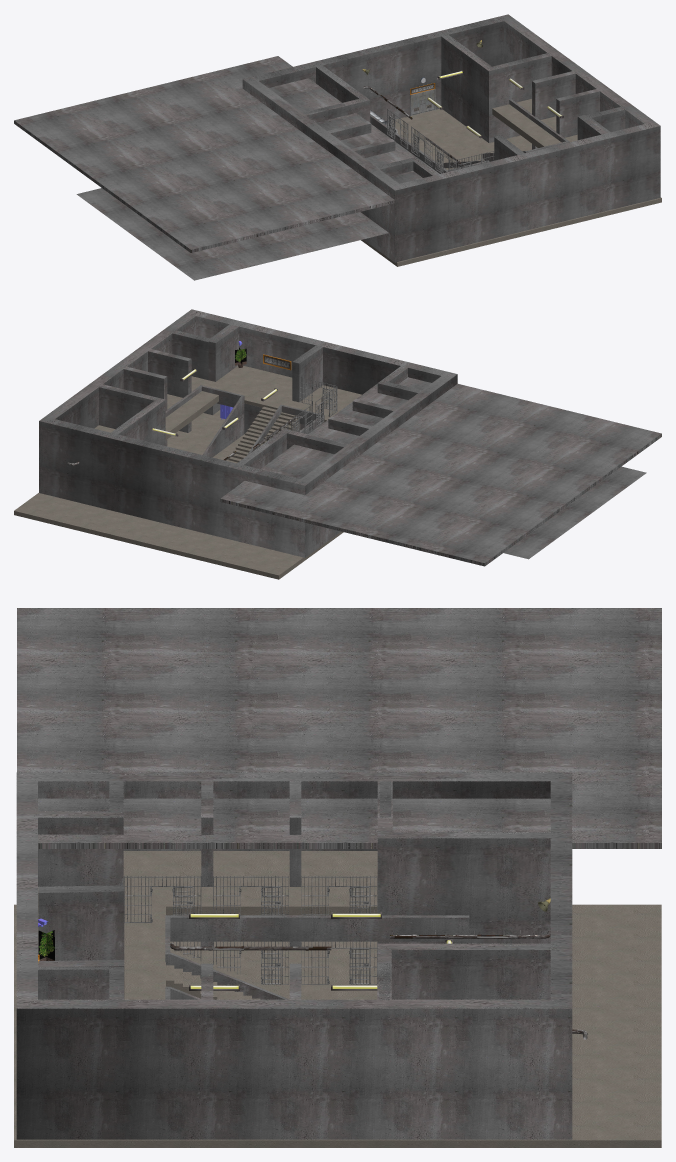
The model's file is Block_North.glb.
3 renders of one model, top to bottom at view 1: azimuth 30°, elevation 25°; view 2: azimuth 150°, elevation 25°; view 3: azimuth 270°, elevation 25°, orthographic. The views are drawn at different scales.
Visible parts, largest first — view 1: Block_North; view 2: Block_North; view 3: Block_North.
Part boxes in pixels (x1=…): Block_North: x1=14, y1=14, x2=661, y2=280; Block_North: x1=14, y1=309, x2=661, y2=579; Block_North: x1=14, y1=608, x2=661, y2=1147.
Size of the model in its own units: 453 by 71.43 by 297.
Materials: 17 (16 with a texture image).
